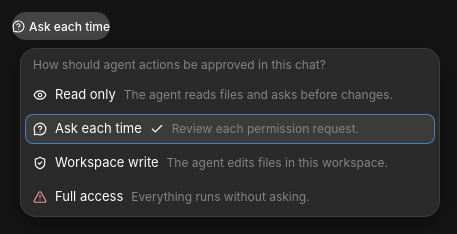
clears the draft when the chat goes back to its default
The image size is (457, 234).
Expected: the button with aria-label "Access options" reads "Ask each time", 12,12 -> 110,40
Click the menu item "Read only" at point(230, 95), box 25,80 -> 435,110
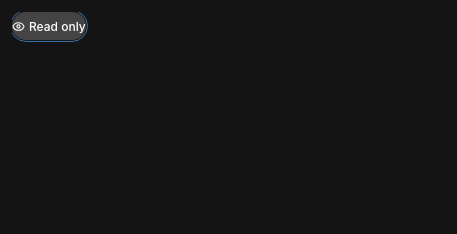
Result: the button with aria-label "Access options" reads "Read only" at 12,12 -> 86,40
